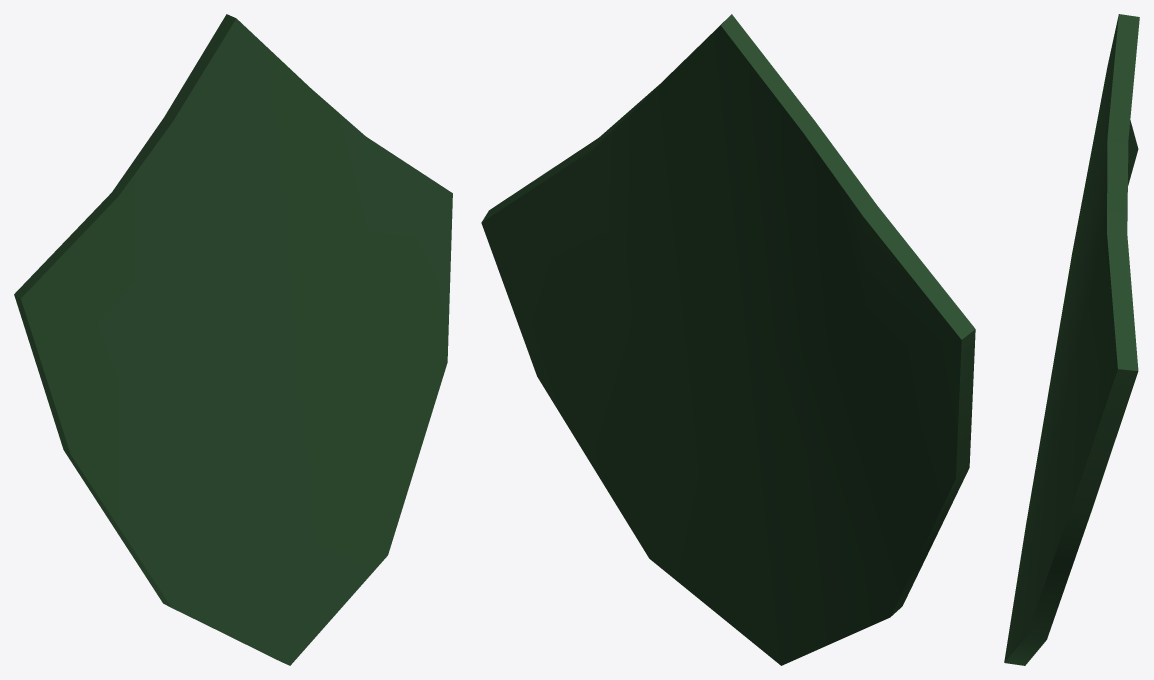
The model's file is scale.glb.
3 renders of one model, left to right at view 1: azimuth 30°, elevation 25°; view 2: azimuth 150°, elevation 25°; view 3: azimuth 270°, elevation 25°, orthographic. The views are drawn at different scales.
Visible parts, largest first — view 1: Plane; view 2: Plane; view 3: Plane.
Part boxes in pixels (<box>): Plane: <box>14,14,452,665</box>; Plane: <box>481,14,975,665</box>; Plane: <box>1004,14,1139,665</box>.
Bounding box in the file's own units: 0.2504 × 0.3384 × 0.0638.
